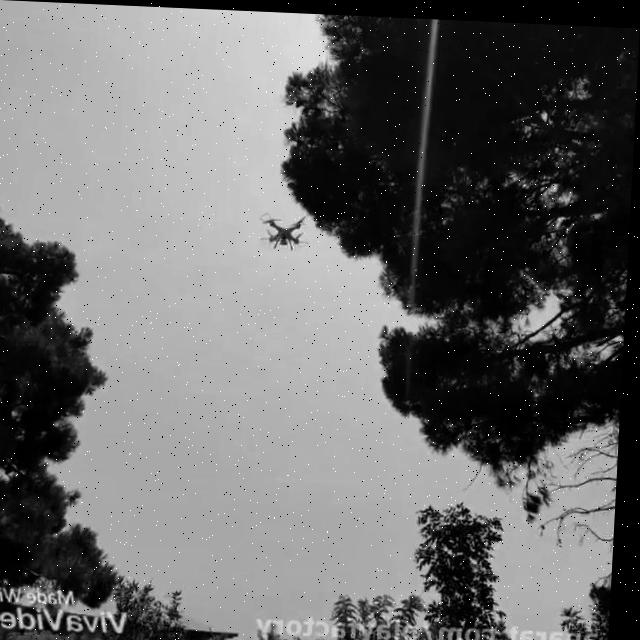drone: (259, 207, 315, 248)
